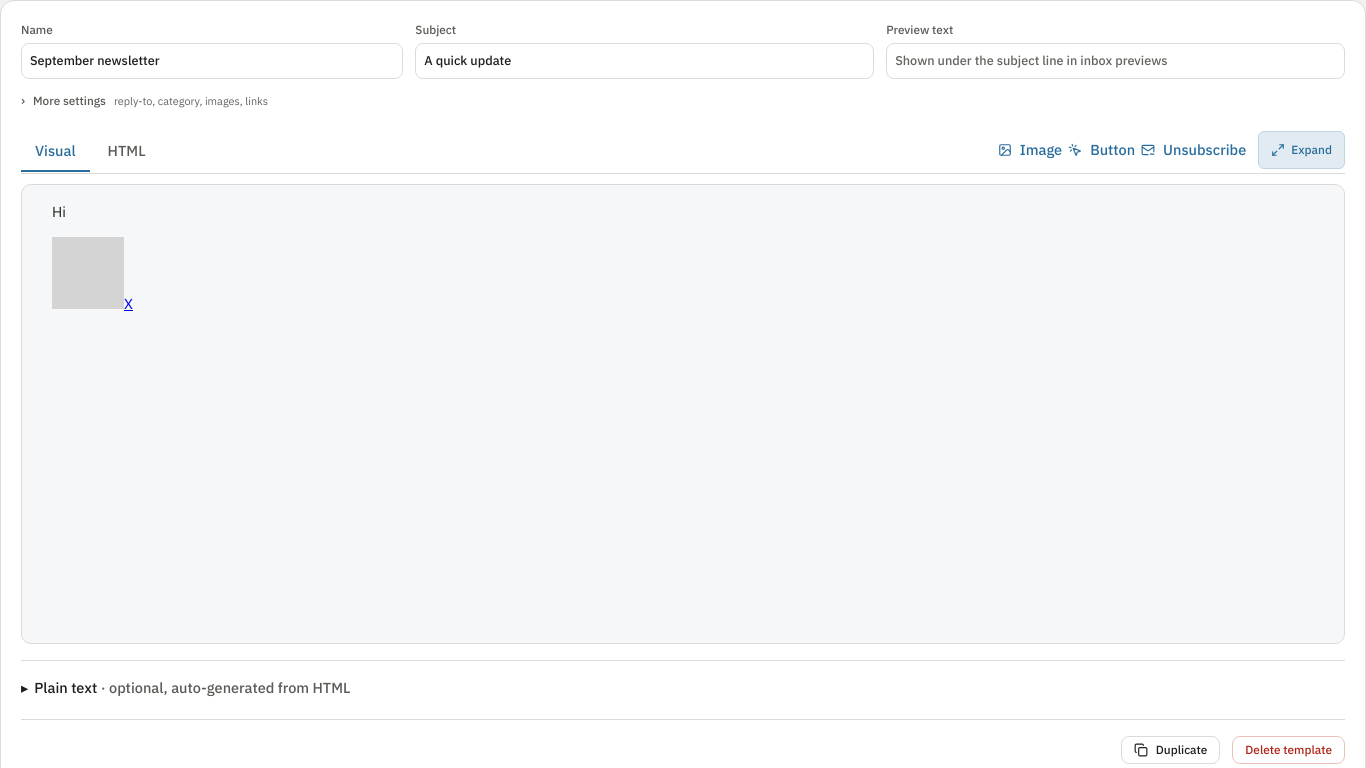
Test: TemplateEditor order › it opens in the flow, as one band beside the fields
Click the button with class "template-more-toggle". click: click(144, 101)
box: [21,87,268,115]
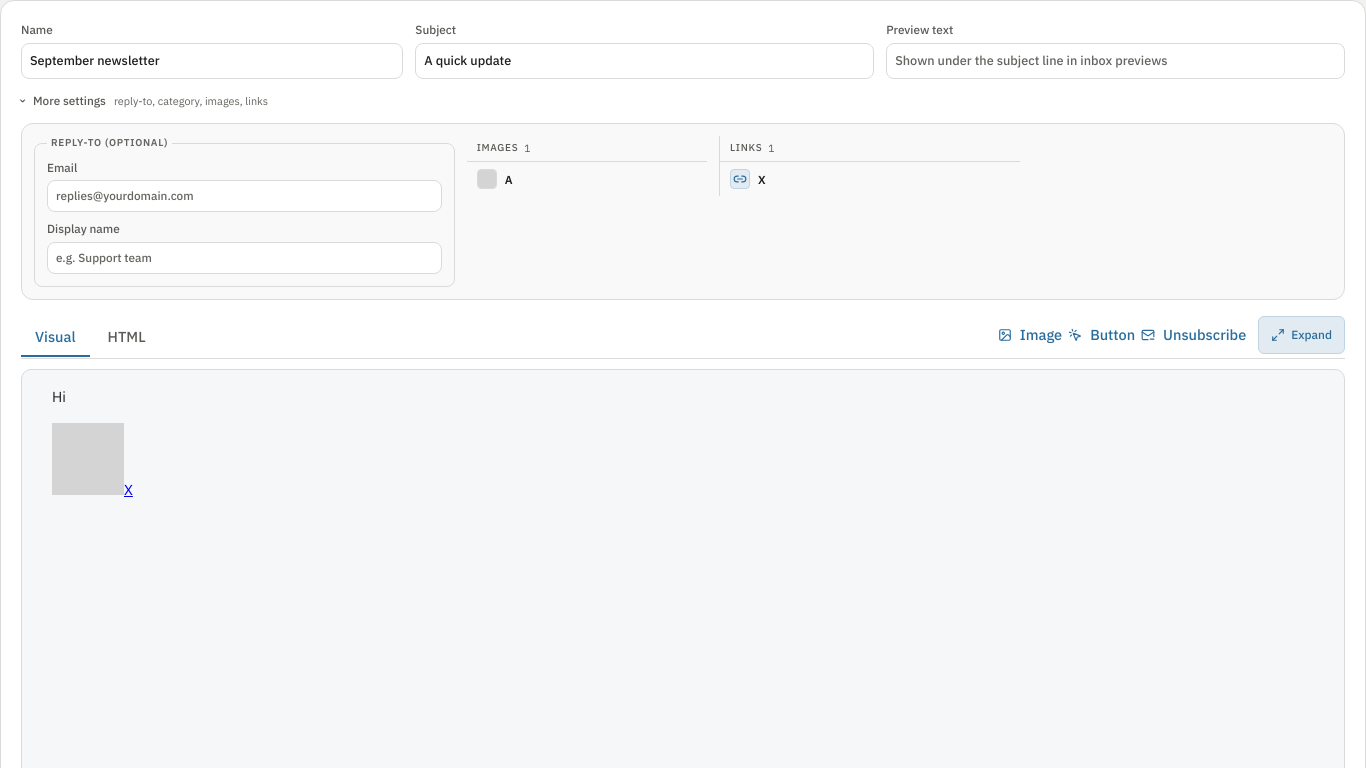
Now the element with class "template-more-body" is shown, box [21,123,1345,300]
Now the element with class "template-replyto-fieldset" is shown, box [34,136,455,287]
Now the element with class "template-asset-group" showing "Images 1 A" is shown, box [467,136,707,196]
